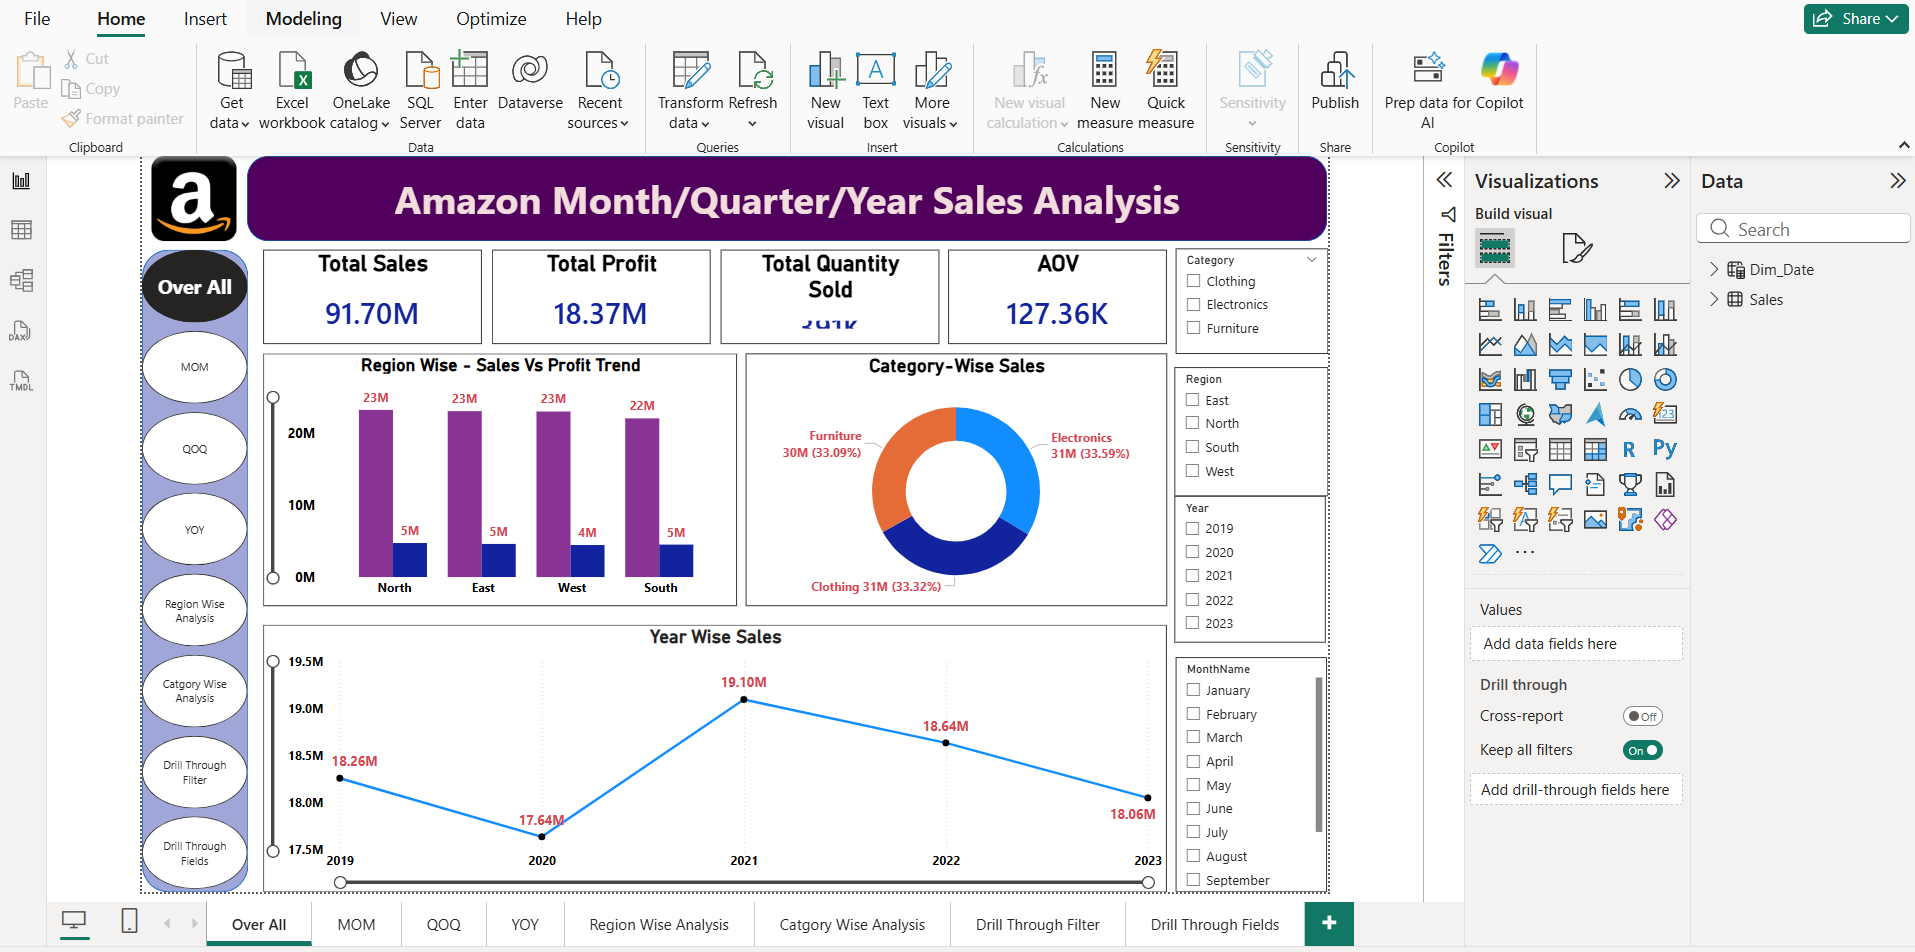

The page's visual inventory and layout, read from the dashboard file:
{"tool":"powerbi","page":{"name":"Over All","canvas":[1450,900],"ordinal":0},"visuals":[{"type":"cardVisual","title":"Total Sales","fields":{"Data":["Sales.A_Total_Sales"]},"box":[148.2,113.9,267.6,115.3],"z":0},{"type":"shape","box":[128.6,0,1321,104.2],"z":1000},{"type":"image","box":[9.2,0,108.5,103.9],"z":2000},{"type":"cardVisual","title":"Total Profit","fields":{"Data":["Sales.A_Total_Profit"]},"box":[428.1,113.9,267.6,115.3],"z":3000},{"type":"cardVisual","title":"Total Quantity Sold","fields":{"Data":["Sales.A_Total_Qty_Sold"]},"box":[708.1,113.9,267.6,115.3],"z":4000},{"type":"cardVisual","title":"AOV","fields":{"Data":["Sales.A_AOV"]},"box":[985.3,113.9,267.6,115.3],"z":5000},{"type":"clusteredColumnChart","title":"Region Wise - Sales Vs Profit Trend","fields":{"Y":["Sales.A_Total_Sales","Sales.A_Total_Profit"],"Category":["Sales.Region"]},"box":[148.3,241.5,579.3,308.8],"z":6000},{"type":"lineChart","title":"Year Wise Sales","fields":{"Category":["Dim_Date.Year"],"Y":["Sales.A_Total_Sales"]},"box":[148.3,573.2,1105.1,327.1],"z":7000},{"type":"donutChart","title":"Category-Wise Sales","fields":{"Y":["Sales.A_Total_Sales"],"Category":["Sales.Category"]},"box":[738.3,241.5,515.1,308.8],"z":8000},{"type":"shape","box":[0,114.6,129.9,785.7],"z":9000},{"type":"pageNavigator","box":[0,114.6,129.9,785.7],"z":10000},{"type":"slicer","fields":{"Values":["Sales.Category"]},"box":[1263.4,113,186.2,128.6],"z":11000},{"type":"slicer","fields":{"Values":["Sales.Region"]},"box":[1262.6,258.3,188,157.4],"z":12000},{"type":"slicer","fields":{"Values":["Dim_Date.Year"]},"box":[1262.6,415.8,185,178.8],"z":13000},{"type":"slicer","fields":{"Values":["Dim_Date.MonthName"]},"box":[1264.1,612.9,185,287.4],"z":14000}]}

Visuals, with their boxes on the page's 1450x900 design canvas (x1, y1, x2, y2). These are canvas units, not pixel positions in the 1915x952 screenshot, which may show the page scaled, cropped or inside an application window:
"Total Sales" cardVisual: <region>148, 114, 416, 229</region>
shape: <region>129, 0, 1450, 104</region>
image: <region>9, 0, 118, 104</region>
"Total Profit" cardVisual: <region>428, 114, 696, 229</region>
"Total Quantity Sold" cardVisual: <region>708, 114, 976, 229</region>
"AOV" cardVisual: <region>985, 114, 1253, 229</region>
"Region Wise - Sales Vs Profit Trend" clusteredColumnChart: <region>148, 242, 728, 550</region>
"Year Wise Sales" lineChart: <region>148, 573, 1253, 900</region>
"Category-Wise Sales" donutChart: <region>738, 242, 1253, 550</region>
shape: <region>0, 115, 130, 900</region>
pageNavigator: <region>0, 115, 130, 900</region>
slicer - Sales.Category: <region>1263, 113, 1450, 242</region>
slicer - Sales.Region: <region>1263, 258, 1451, 416</region>
slicer - Dim_Date.Year: <region>1263, 416, 1448, 595</region>
slicer - Dim_Date.MonthName: <region>1264, 613, 1449, 900</region>
